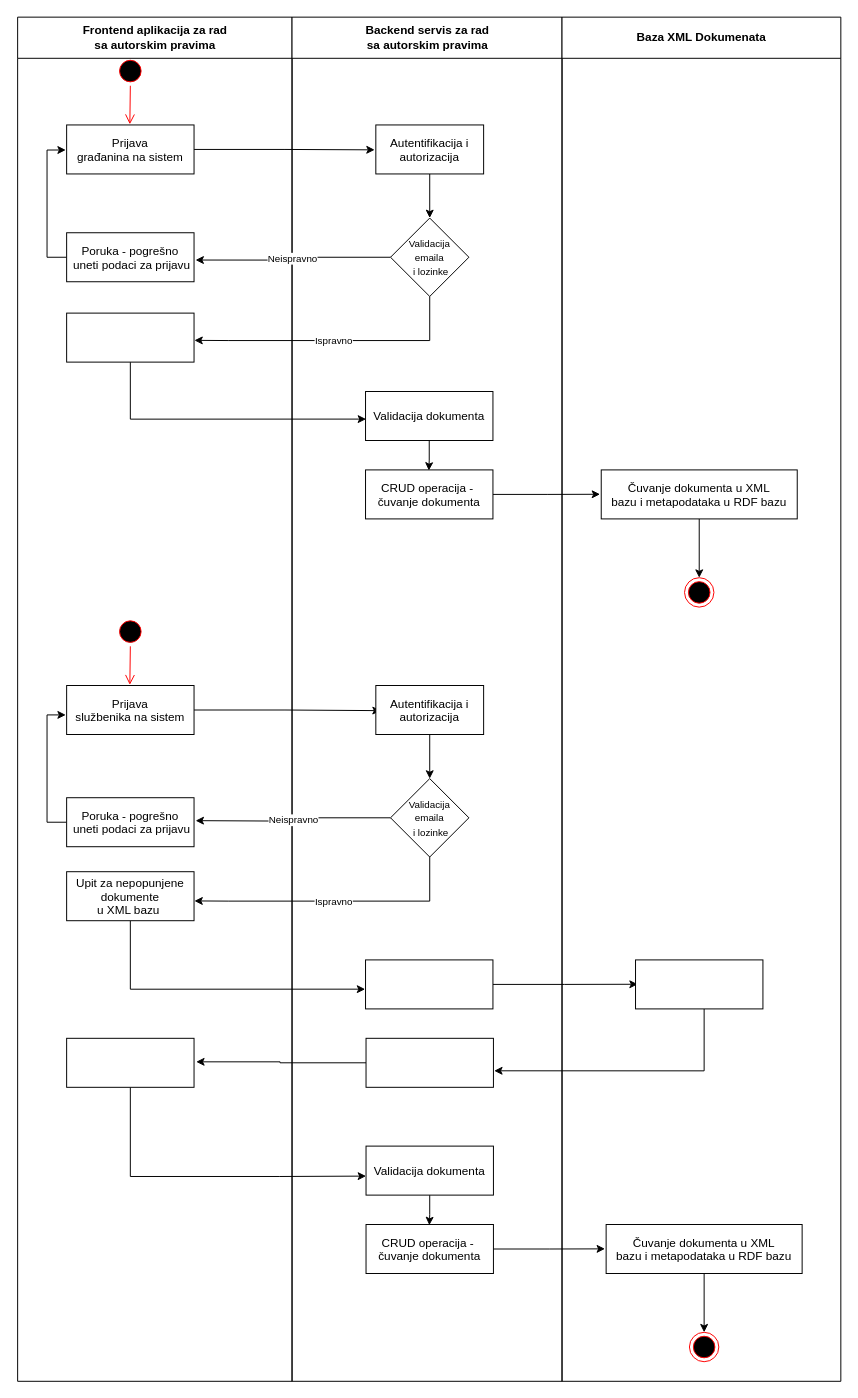
This 858x1398 diagram has some shape labels left out. Each missing label, with the centre of its shape:
"Dodatno popunjavanje i odobrenje zahteva" goes at (130,1062).
"Popunjavanje forme i slanje" goes at (130,337).
"Pretraga po bazi i vraćanje odgovora" goes at (699,984).
"Prosleđivanje upita" goes at (429,984).
"Slanje XML dokumenata na frontend" goes at (429,1062).
